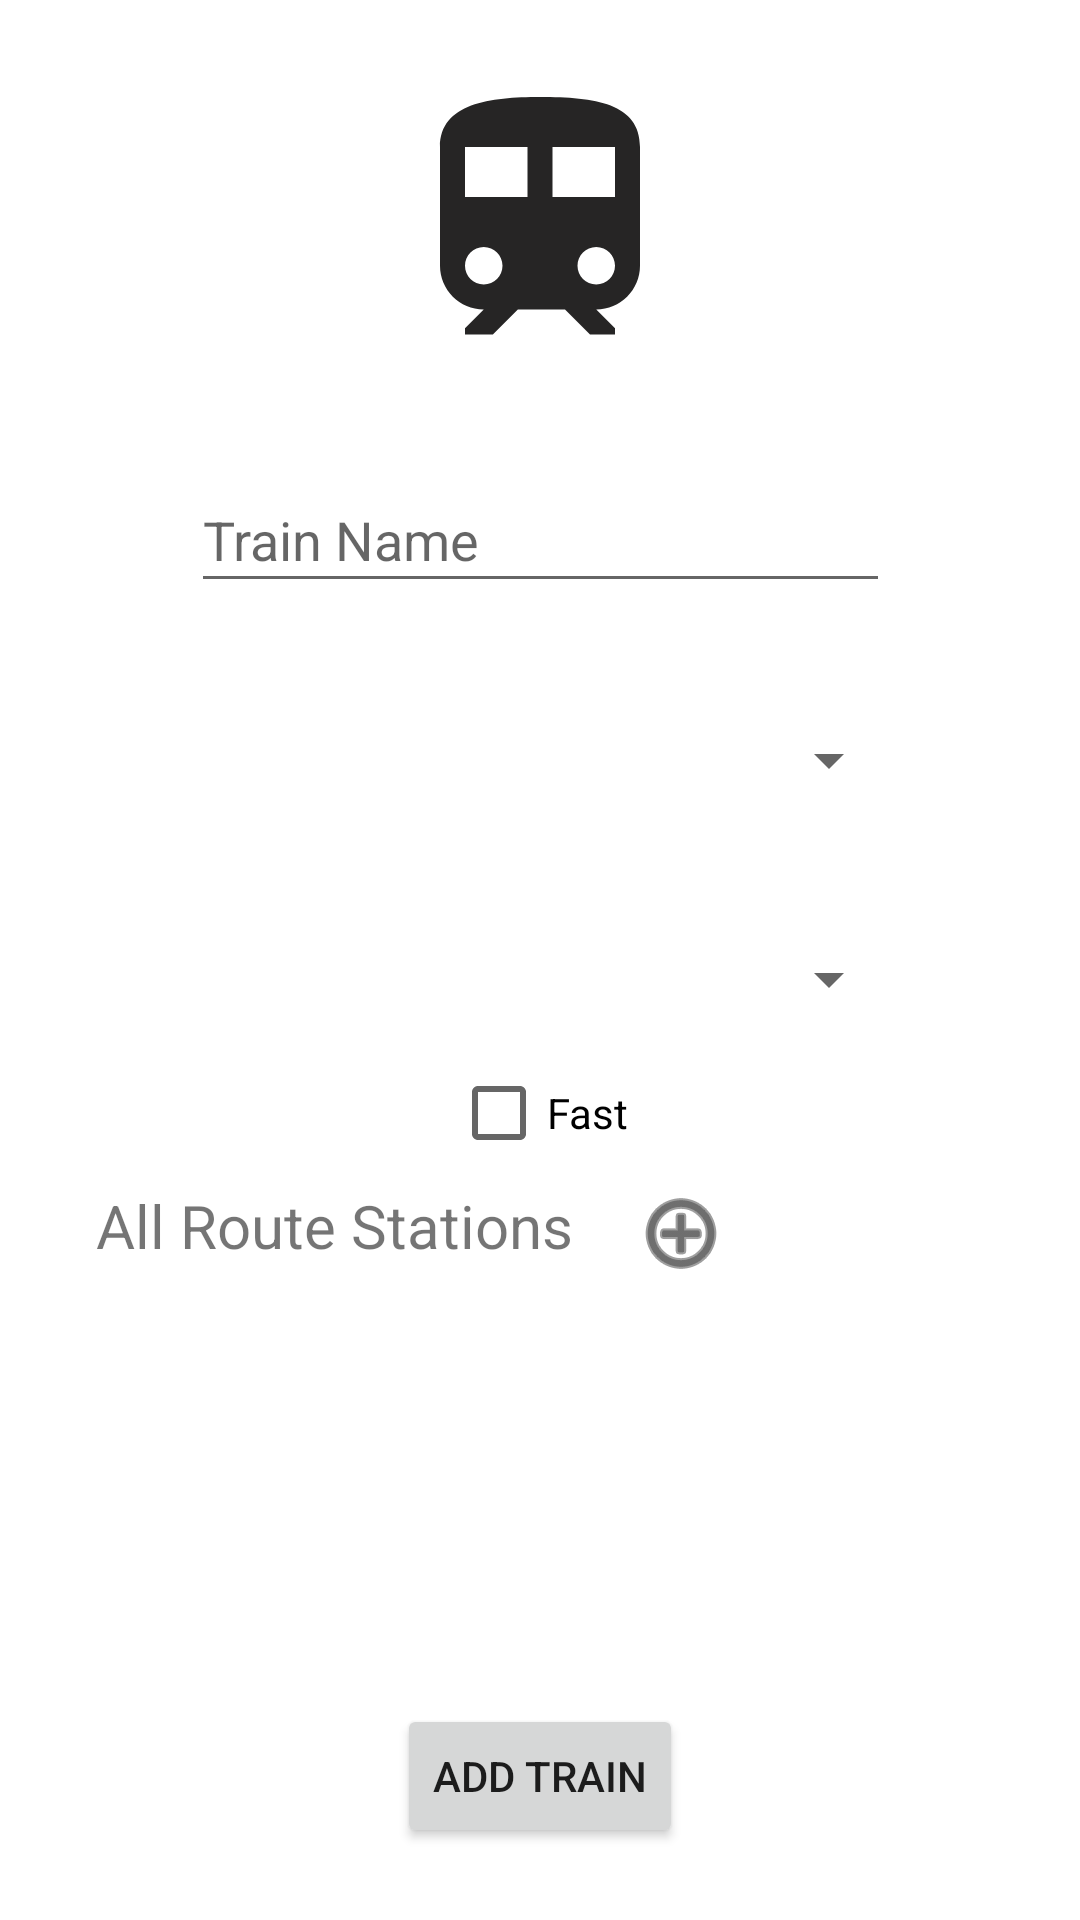

Icons on this 1080*1920 Android screen, each with the point to tap as point (x, y):
add: point (681, 1233)
